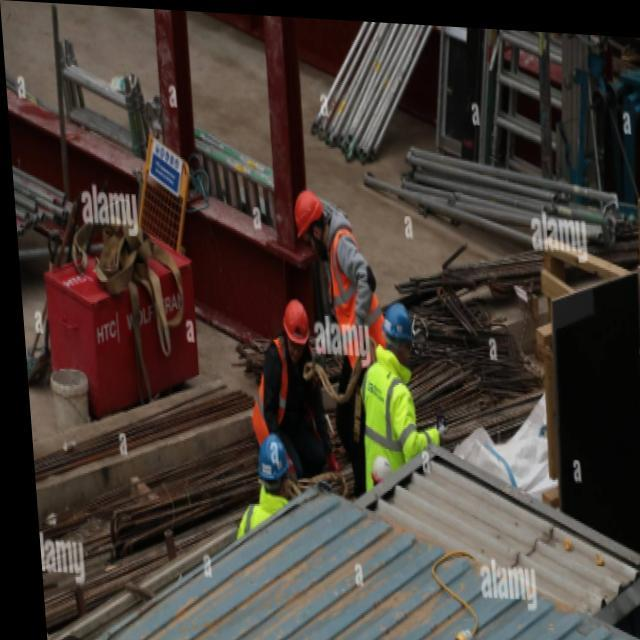helmet: (380, 301, 422, 374), (289, 185, 329, 255), (253, 428, 295, 493), (279, 299, 314, 375)
vest: (352, 344, 446, 510), (244, 332, 328, 467), (318, 219, 390, 369), (231, 487, 308, 624)
